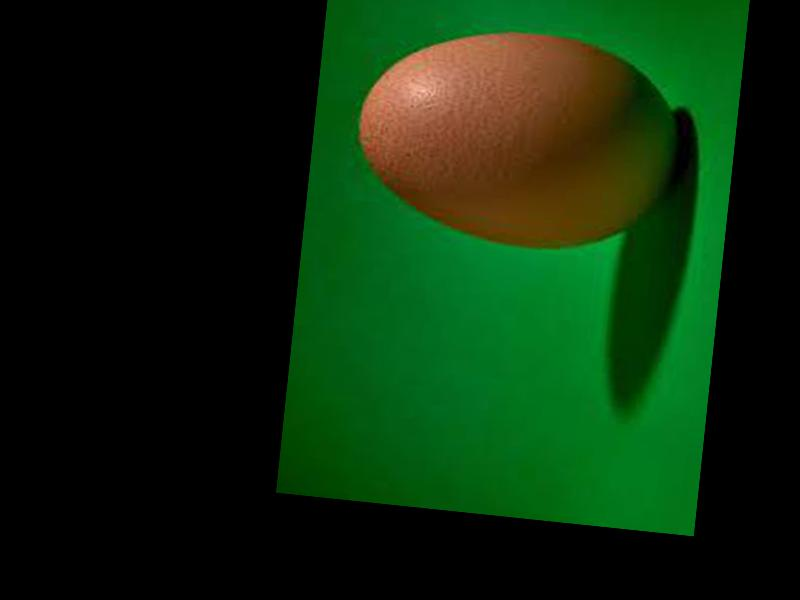Eggs: (350, 15, 689, 261)
